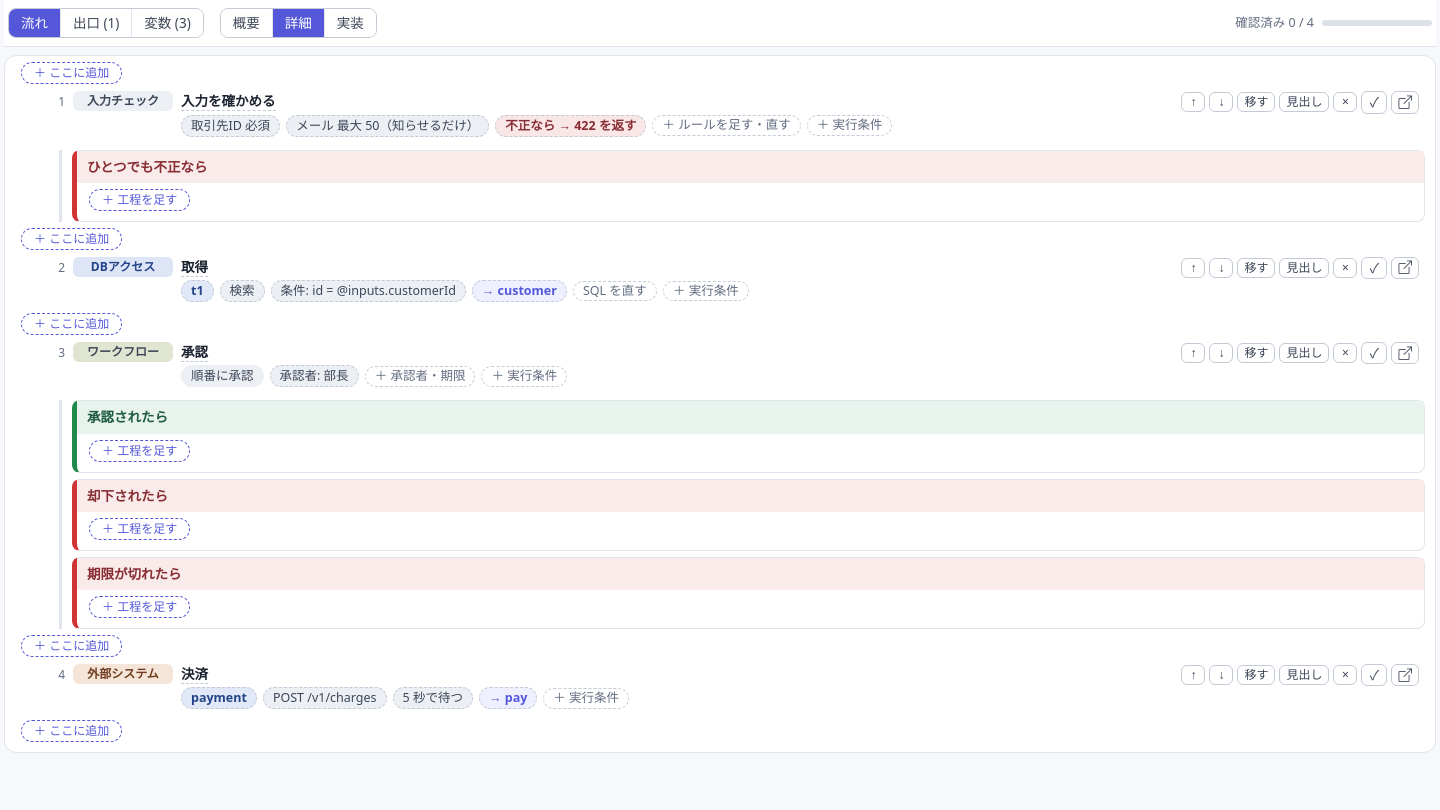
流れ: 細かい欄をその場で直す › 外部システム: 形の合わない接続先は決められない。HTTP の呼び方を外すと httpCall が消える
The width and height of the screenshot is (1440, 810).
Click the button "payment": [219, 698] box [181, 687, 257, 709]
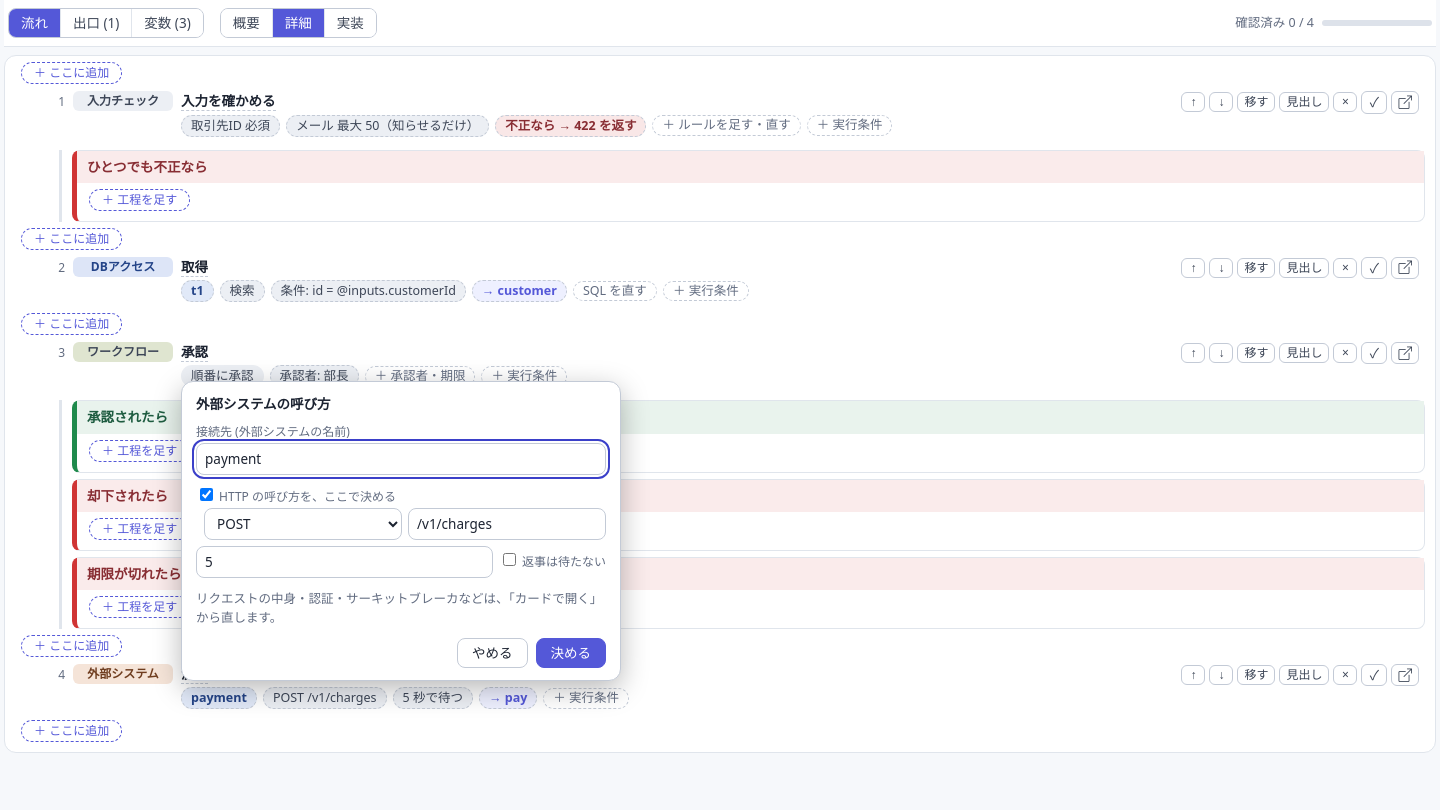
Replace the text in the field named "接続先" with "Payment-Gateway": [401, 459] box [196, 442, 606, 475]
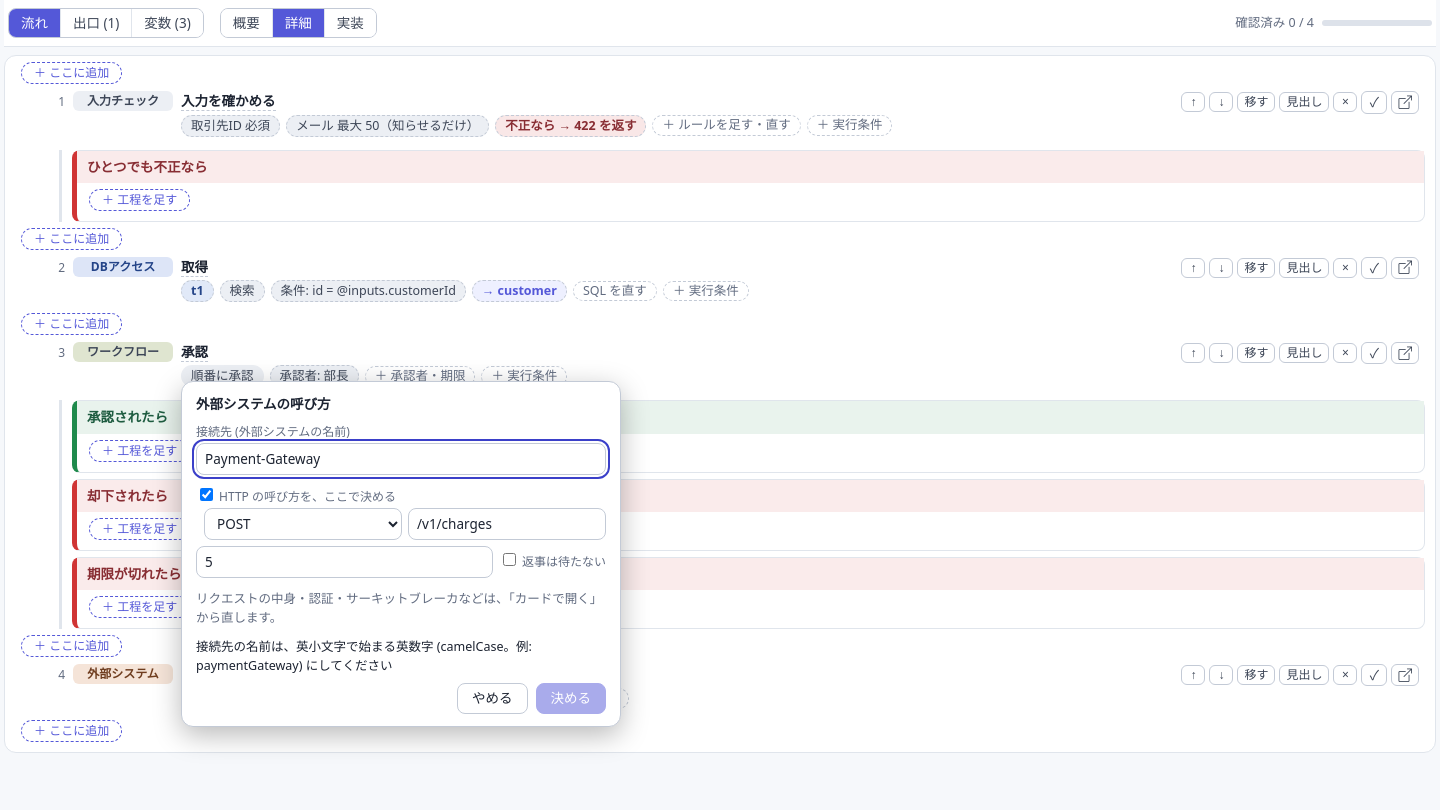
Expected: the button with test id "pfs-external-apply" is disabled, [536, 683, 606, 714]
Replace the text in the field named "接続先" with "paymentGateway": [401, 459] box [196, 442, 606, 475]
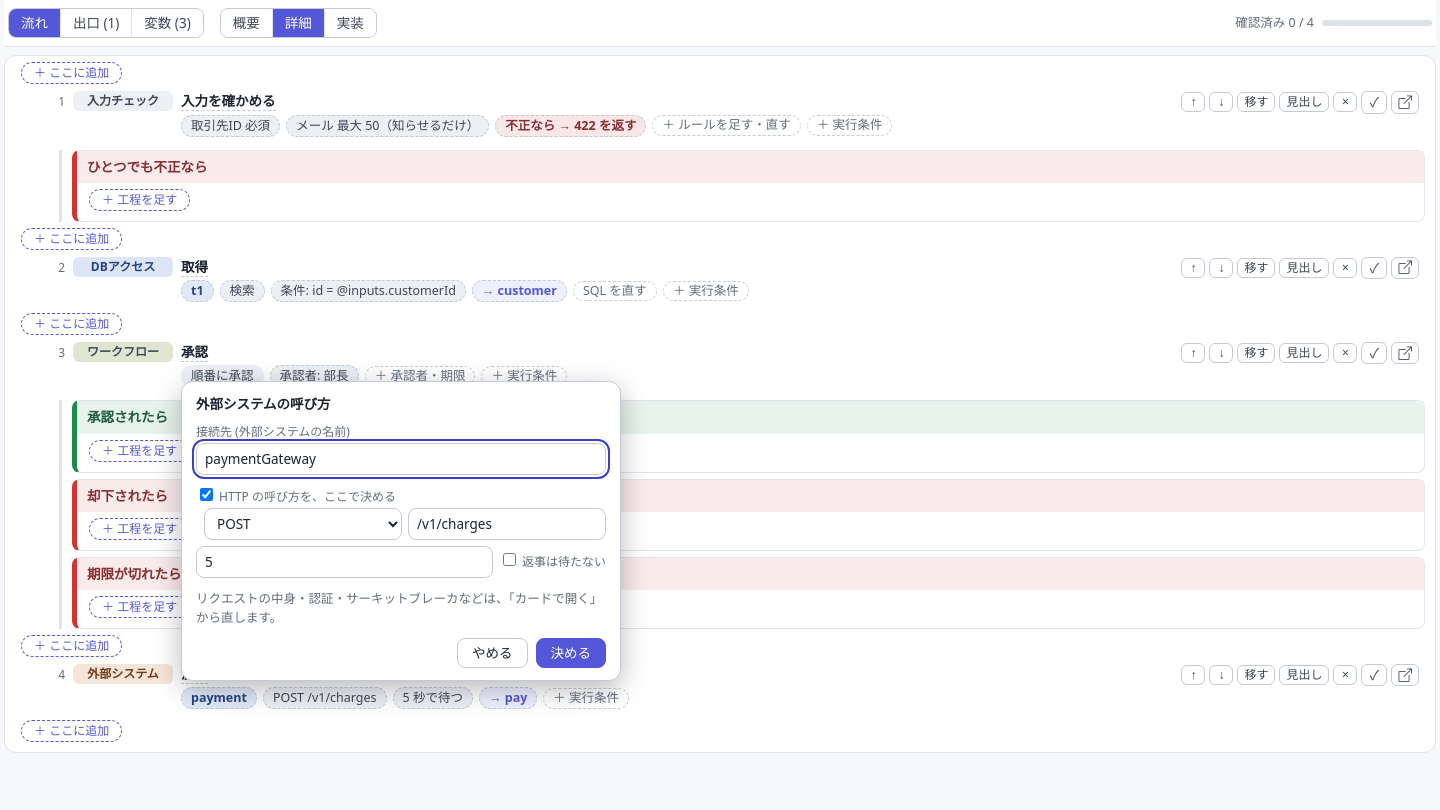
Click the checkbox labelled "HTTP の呼び方を、ここで決める": [206, 494] box [200, 488, 213, 501]
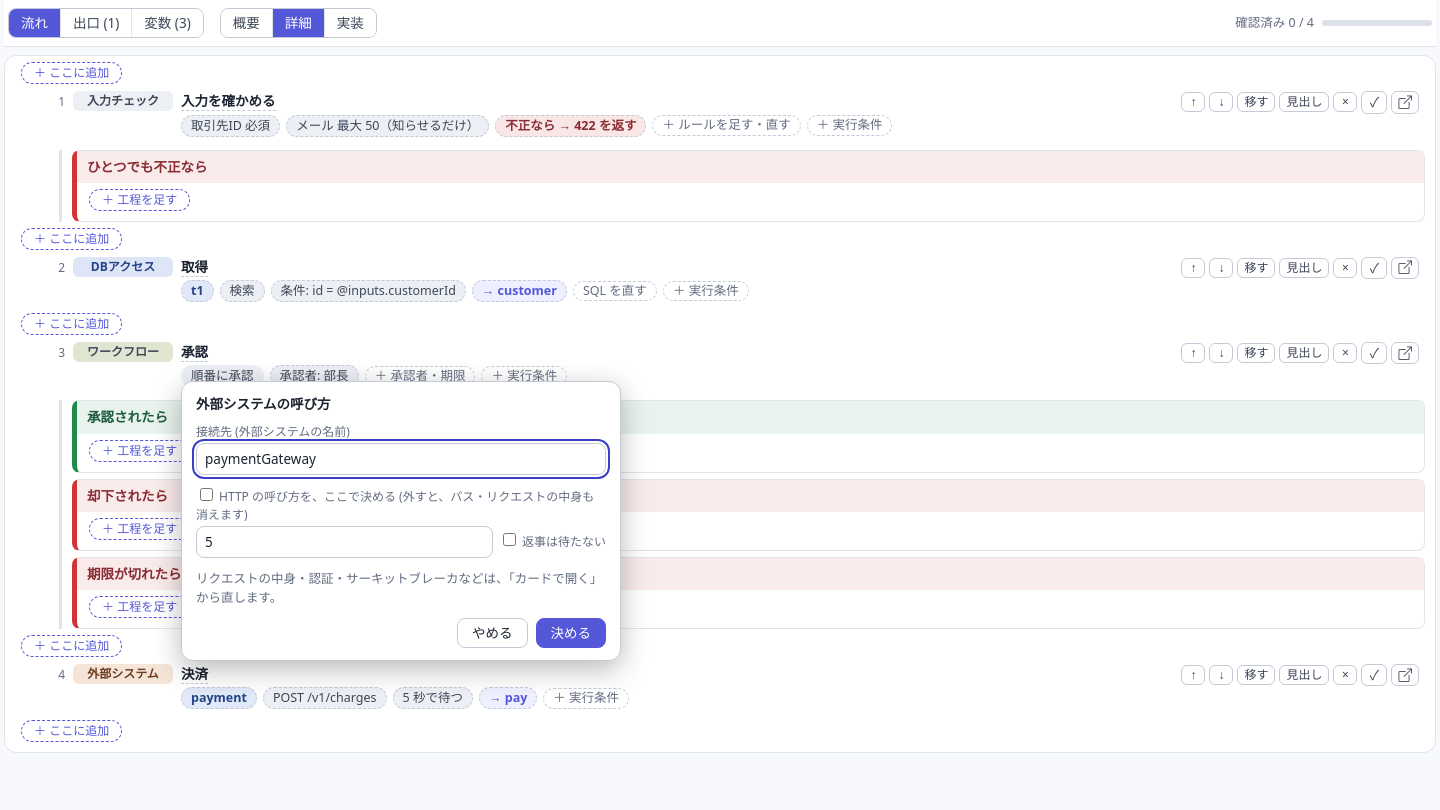
Click the button with test id "pfs-external-apply": [571, 633] box [536, 618, 606, 648]
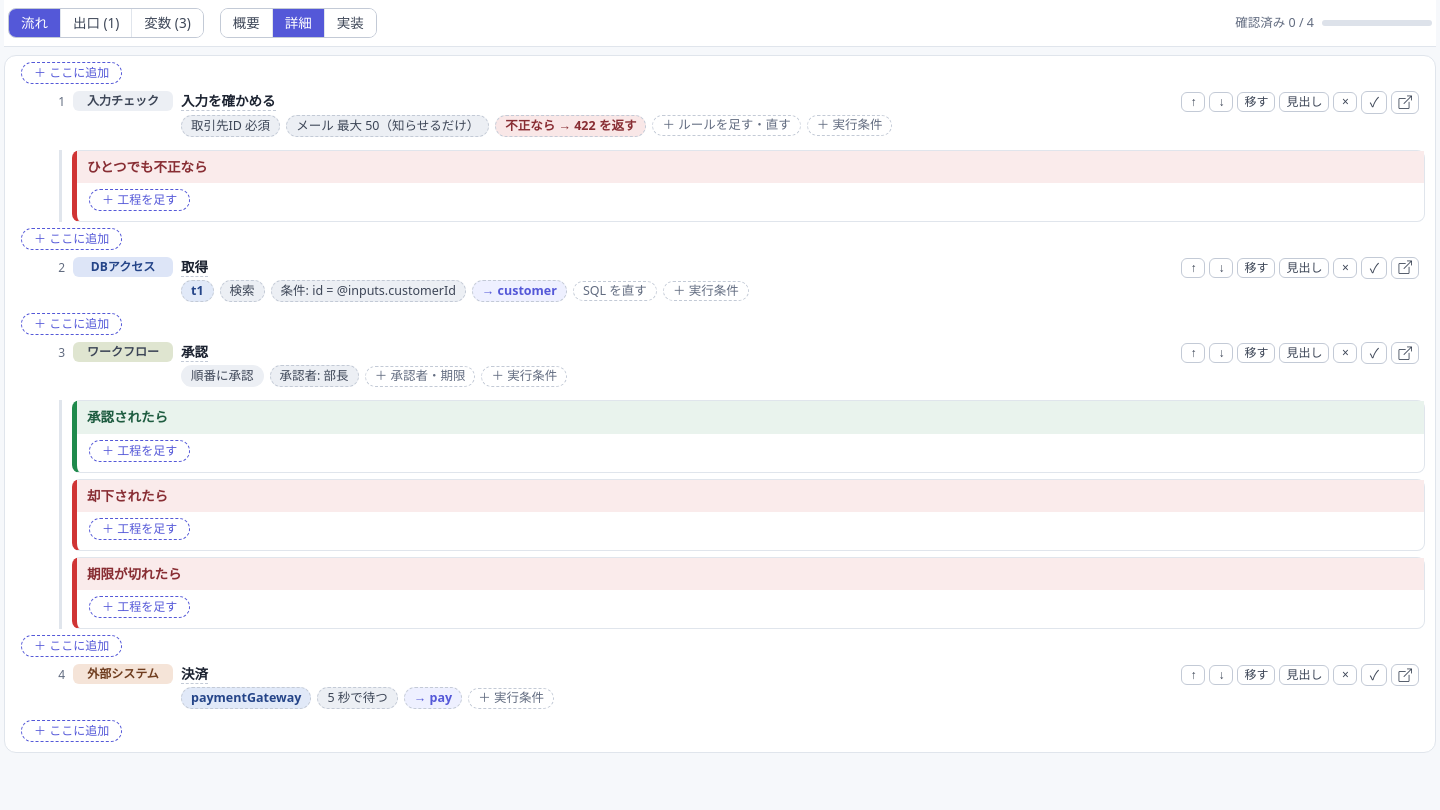
Expected: the button "paymentGateway" is shown, [181, 687, 311, 709]
